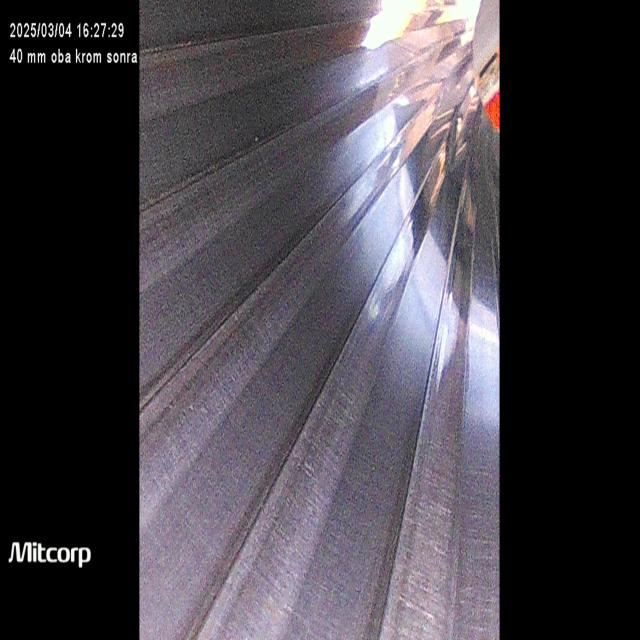hata_8.1: (401, 454, 473, 640)
